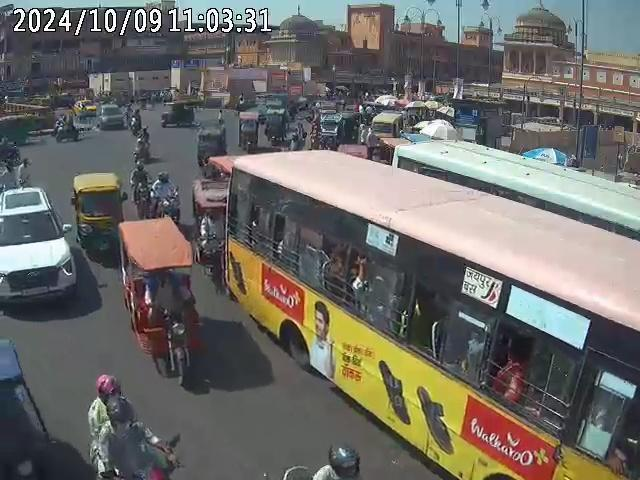auto: (114, 215, 198, 380), (71, 172, 126, 253), (364, 112, 404, 155), (236, 110, 261, 146)
bus: (224, 144, 640, 480)
car: (0, 185, 75, 312), (98, 103, 127, 130)
motorbike-rider: (85, 373, 184, 479), (146, 170, 182, 222), (128, 161, 152, 217), (53, 115, 83, 142)
